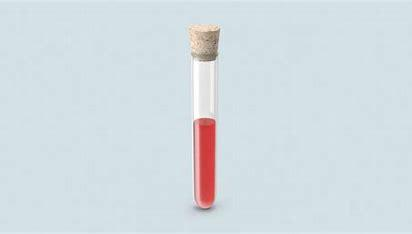Titrarion: (172, 24, 236, 214)
